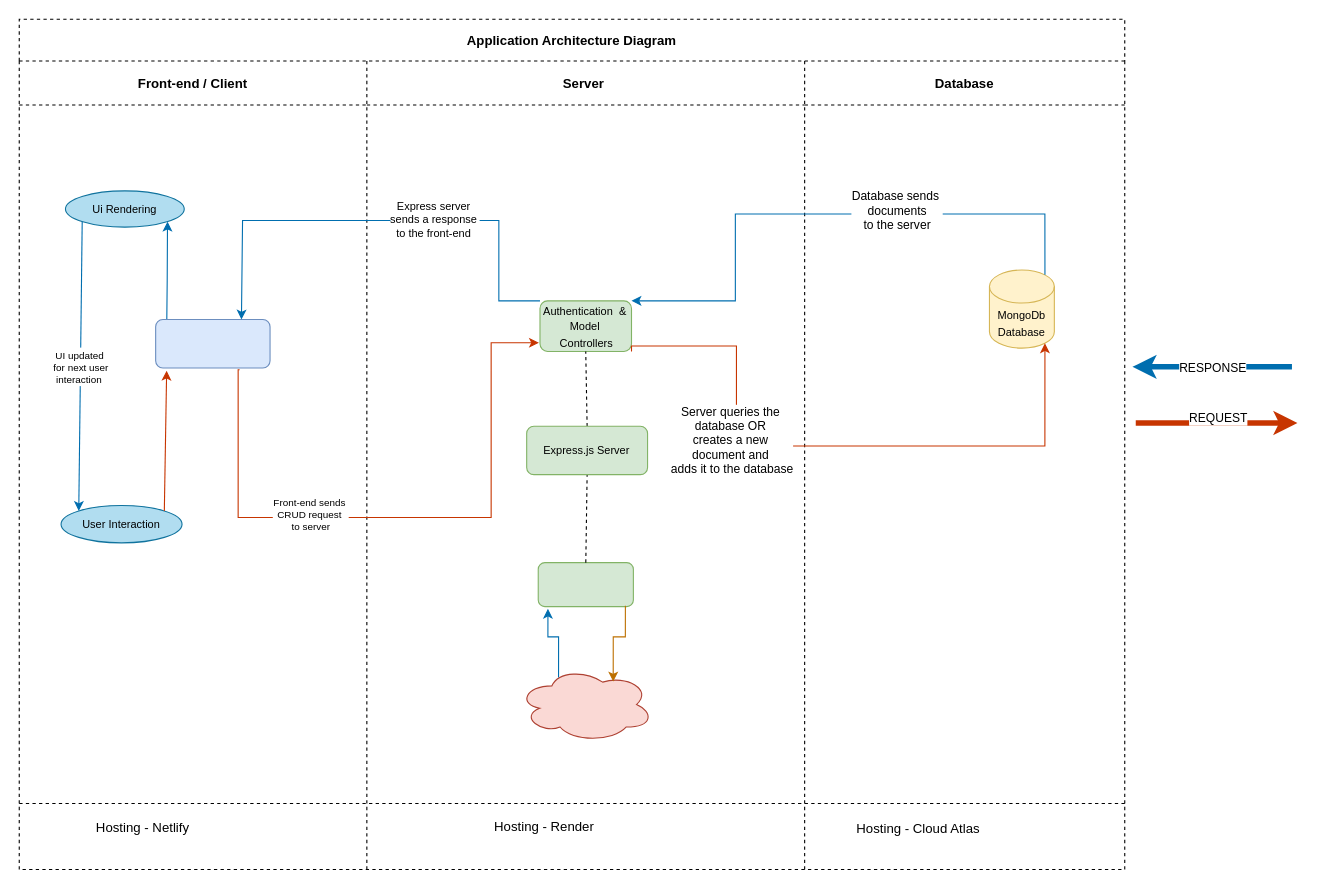
Image size: 1328x889. Some labels were removed from this diagram. Here are the shapes that lost their labels. From the top down, the centre of each, then its label:
At point (212, 343): "React.js App".
At point (585, 584): "Payment Controller".
At point (585, 704): "STRIPE Payment Processing".
